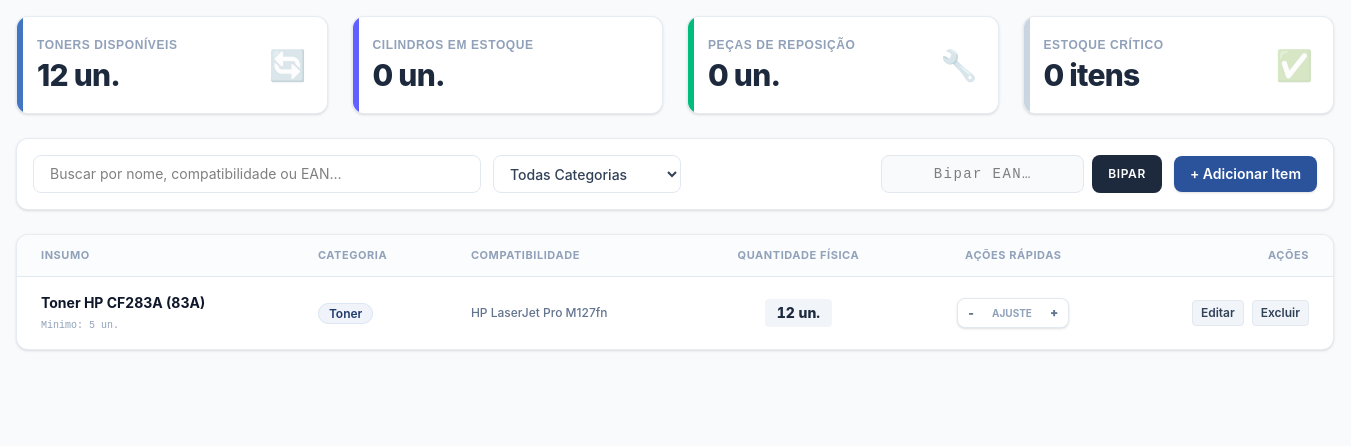
Test case: BarcodeScanning Integration Tests › deve incrementar o estoque em +1 ao bipar um produto cadastrado
Expected: the text "Toner HP CF283A (83A)" is shown, left=41, top=294, right=205, bottom=310
// Digita o código de barras no input do bipador
In the field with placeholder "Bipar EAN…": (983, 174) left=881, top=155, right=1084, bottom=193, type "7891234567890"
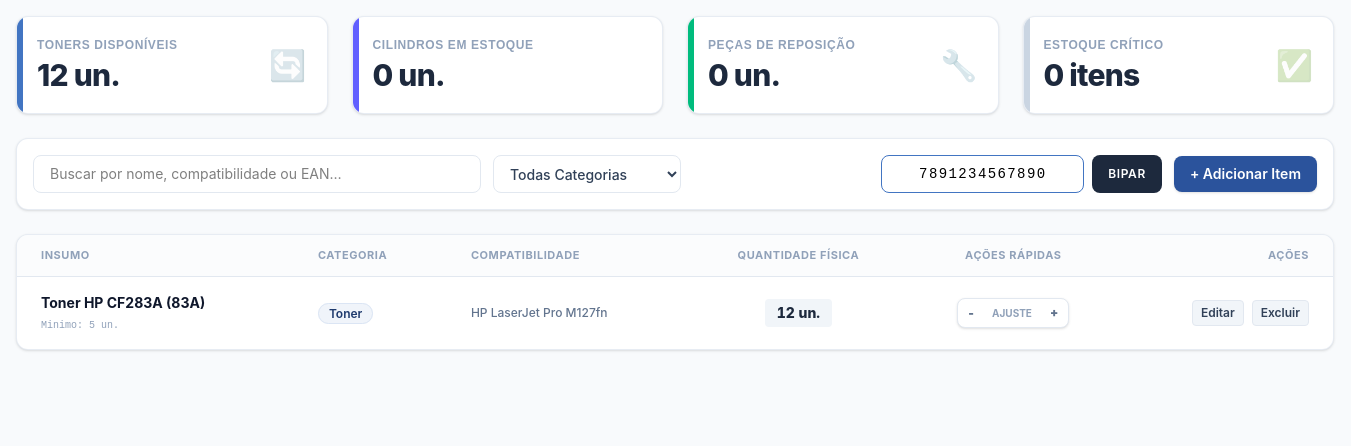
// Clica no botão Bipar
Click the button "Bipar": (1127, 174) left=1092, top=155, right=1162, bottom=193
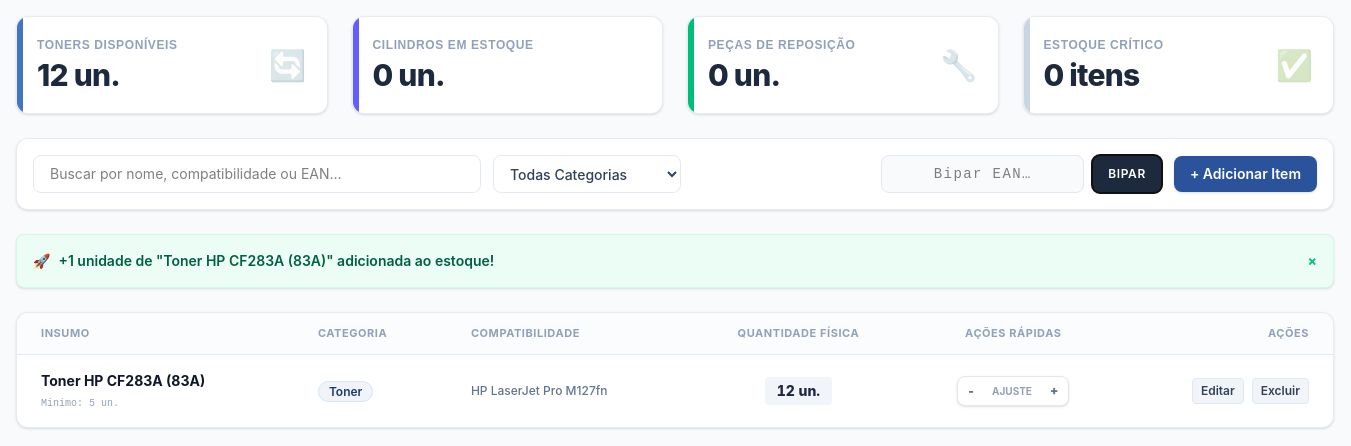
Now the text "+1 unidade de \"Toner HP CF283A (83A)\" adicionada ao estoque!" is shown, box left=58, top=251, right=494, bottom=271
